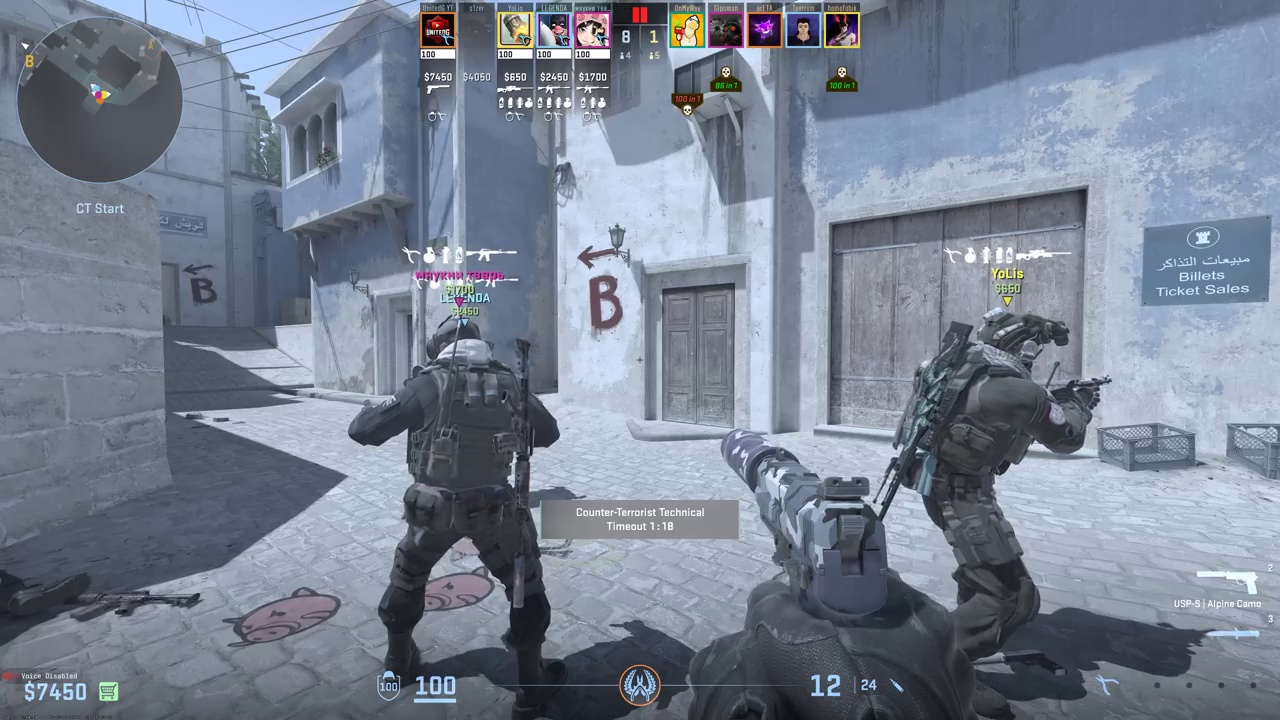CT: (375, 317, 554, 674), (924, 317, 1070, 686)
